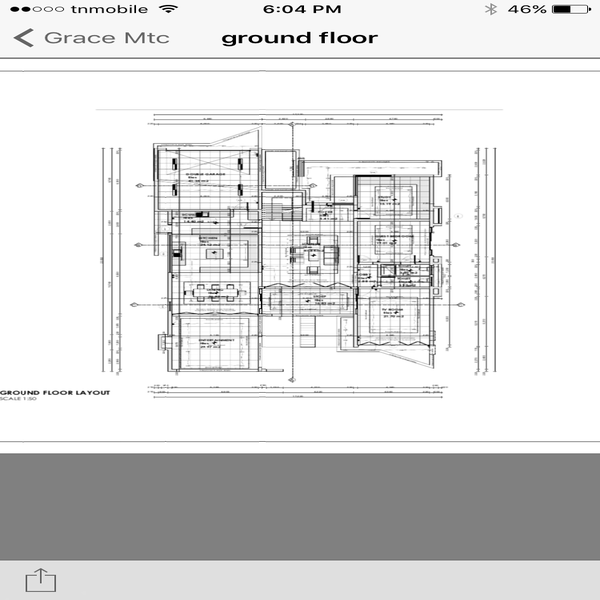room: (166, 204, 267, 373), (351, 184, 436, 348)
